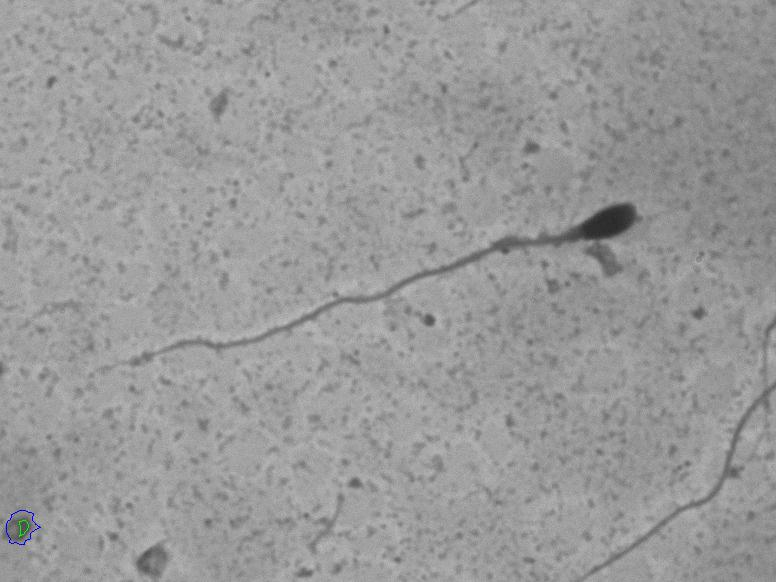Abnormal: (94, 161, 668, 395)
